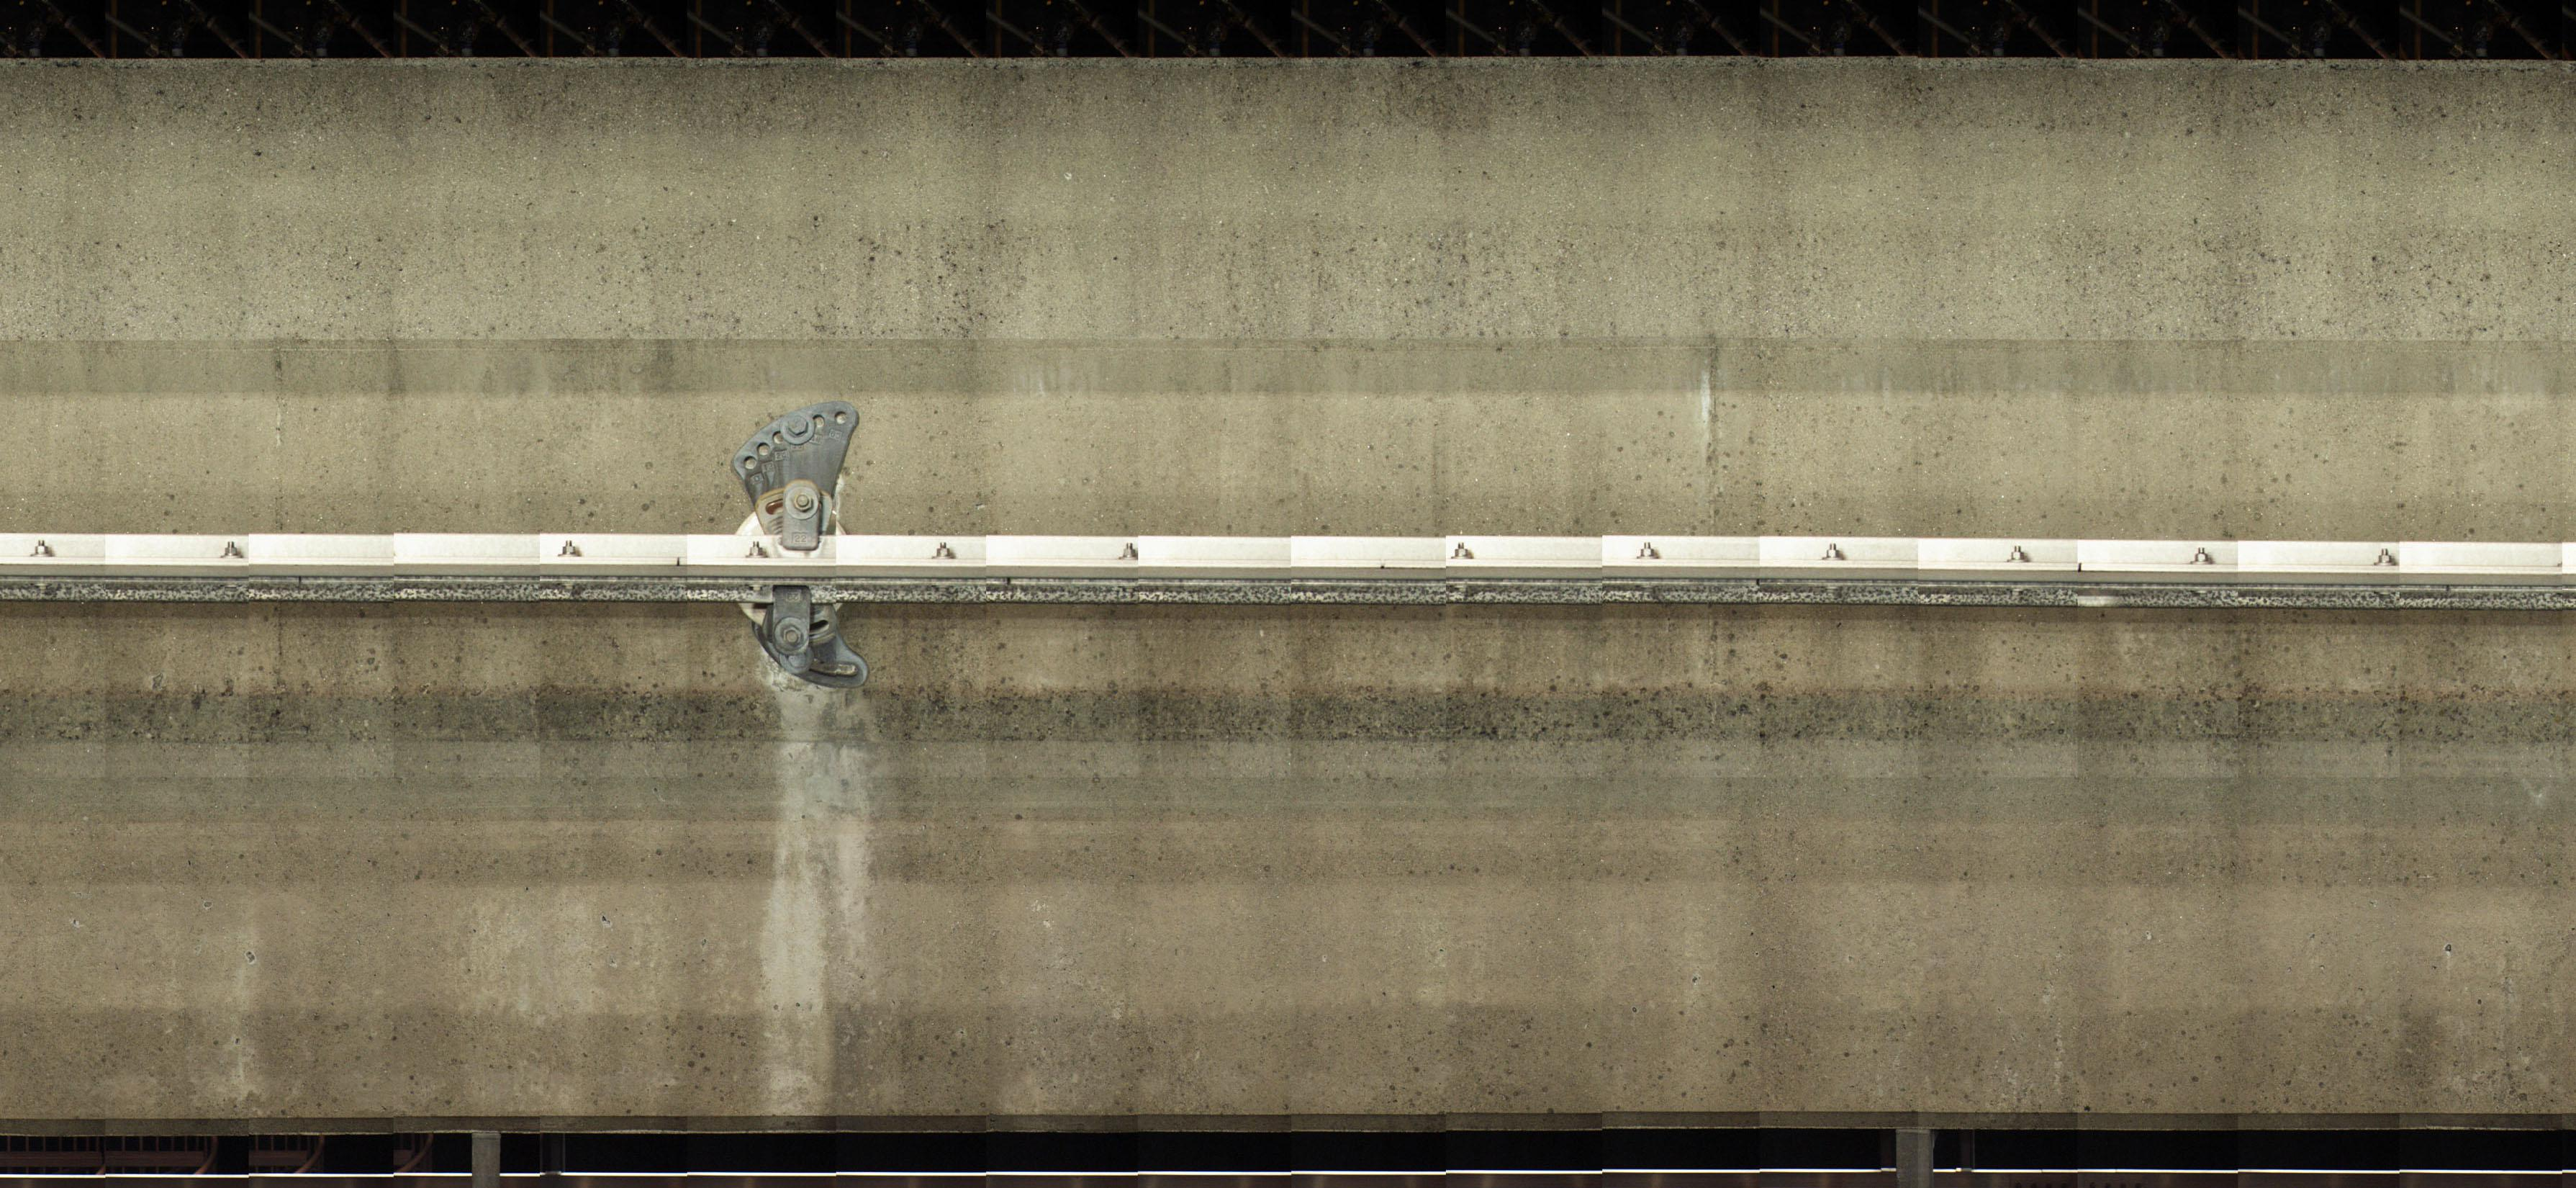concrete: (3, 600, 2569, 1116), (0, 58, 2569, 536)
